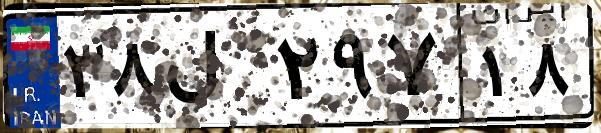1: (475, 38, 525, 113)
2: (270, 28, 330, 110)
3: (57, 26, 110, 100)
7: (385, 28, 445, 110)
8: (525, 38, 570, 115), (110, 28, 158, 98)
9: (330, 28, 385, 110)
ل: (158, 20, 270, 120)
